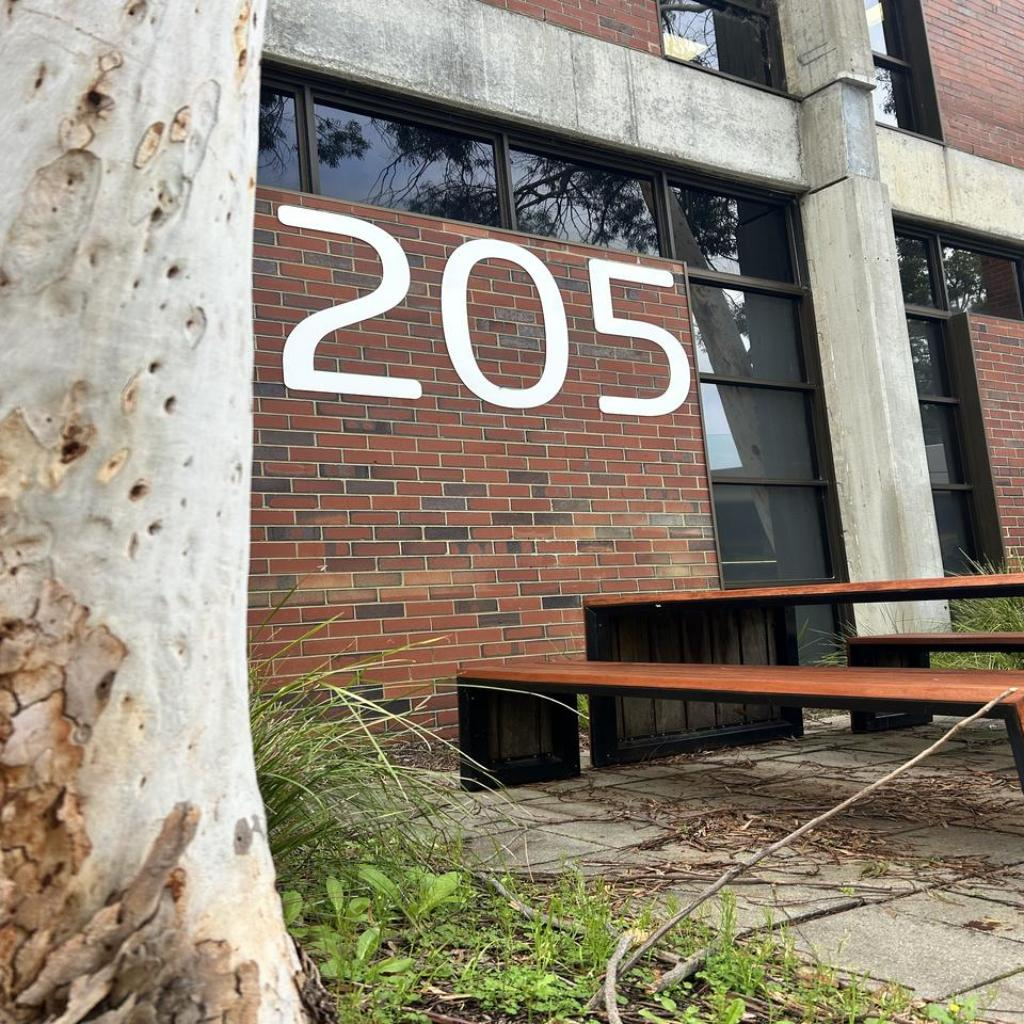BuildingCodes: (272, 201, 694, 421)
